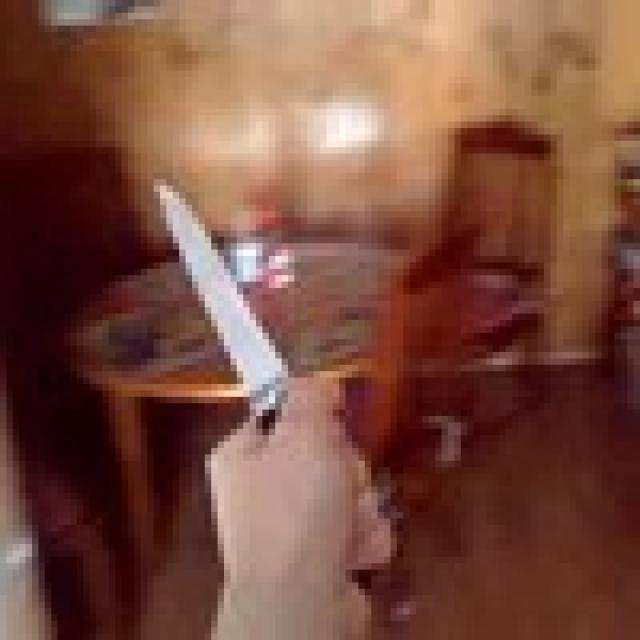Knife: (154, 179, 371, 563)
